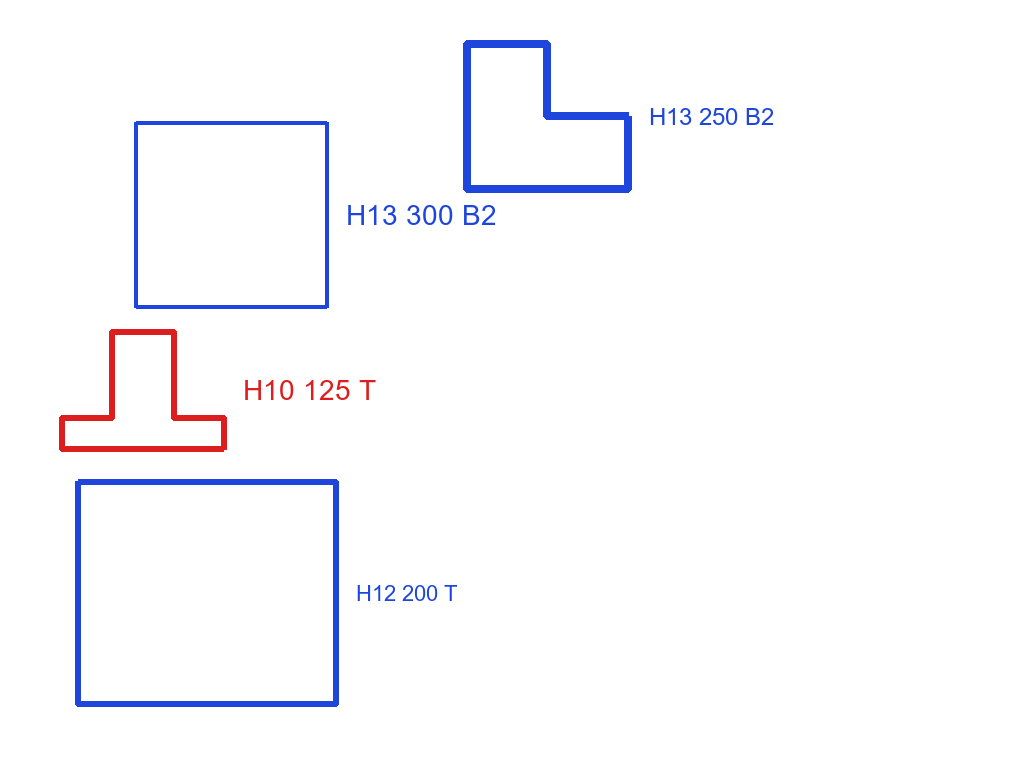shape: (73, 476, 341, 710), (132, 118, 330, 311), (460, 38, 635, 195), (57, 326, 228, 455)
text: (344, 203, 499, 227), (241, 378, 378, 402), (647, 106, 776, 127), (354, 583, 459, 603)
